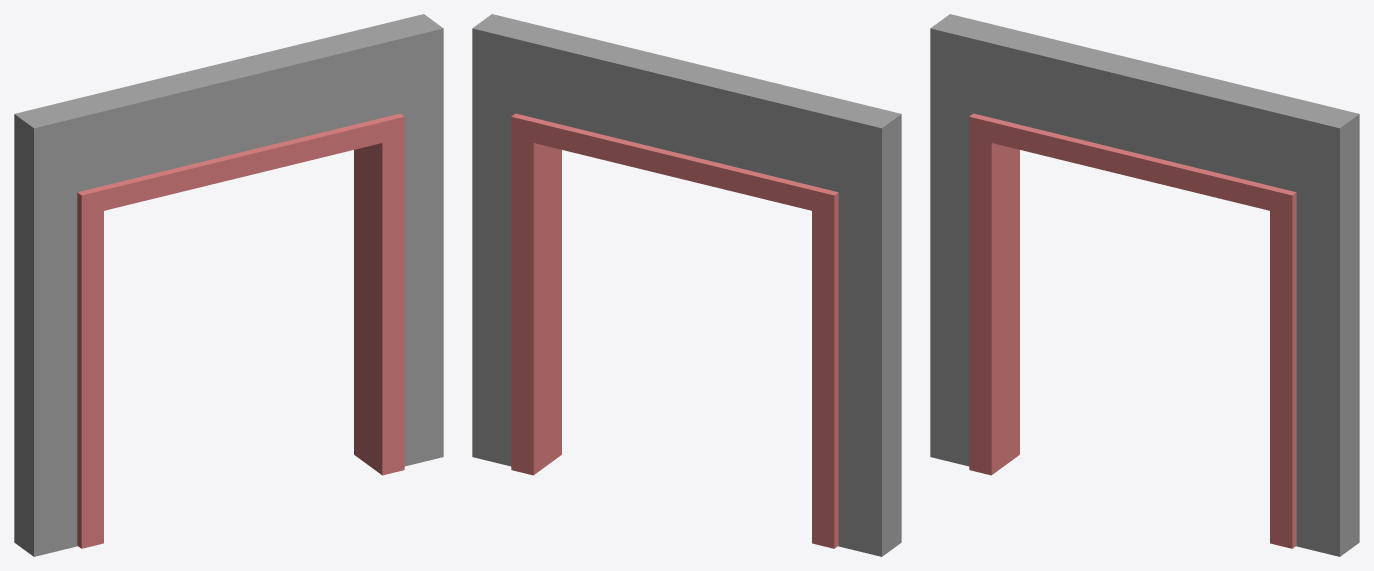
Rendered from SM_DoorFrame.fbx.
3 renders of one model, left to right at view 1: azimuth 30°, elevation 25°; view 2: azimuth 150°, elevation 25°; view 3: azimuth 330°, elevation 25°, orthographic.
Parts seen in each view (by area): view 1: SM_DoorFrame; view 2: SM_DoorFrame; view 3: SM_DoorFrame.
Part boxes in pixels (box(x1,y1,x2,y2)): SM_DoorFrame: box(14, 14, 443, 556); SM_DoorFrame: box(472, 14, 901, 556); SM_DoorFrame: box(930, 14, 1359, 556).
Bounding box in the file's own units: 3 × 3 × 0.3617.
